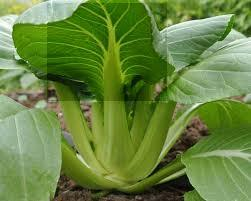Healthy-Pechay: (3, 3, 247, 189)
